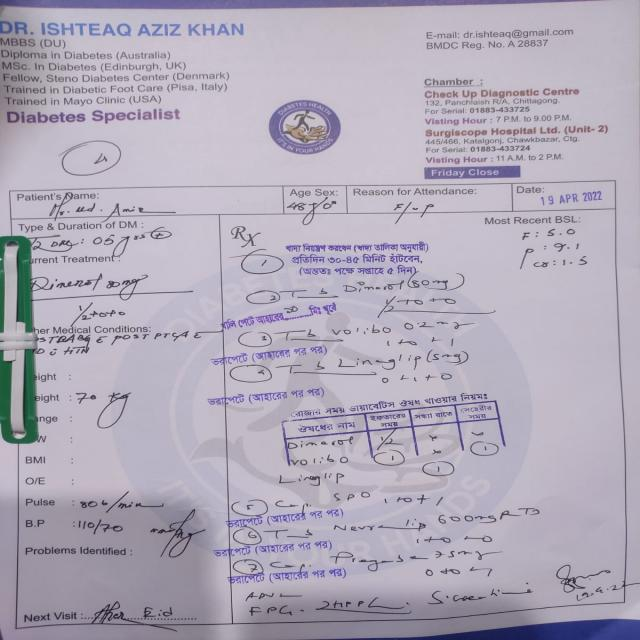Dimerol: (286, 436, 366, 452), (340, 280, 409, 296)
Linaglip: (334, 350, 422, 371), (272, 470, 356, 488)
Volibo: (325, 321, 396, 340), (289, 455, 354, 470)
